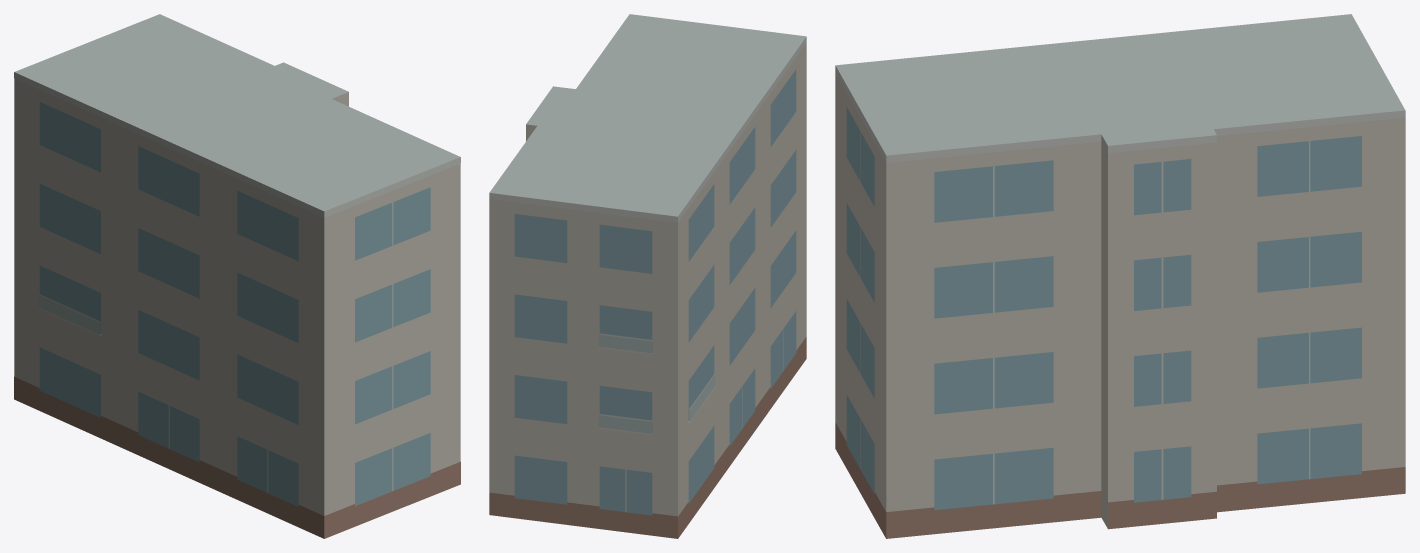
File: survey-upis-32812188.glb
3 renders of one model, left to right at view 1: azimuth 30°, elevation 25°; view 2: azimuth 150°, elevation 25°; view 3: azimuth 270°, elevation 25°, orthographic. The views are drawn at different scales.
Parts seen in each view (by area): view 1: survey-upis-32812188.tmp; view 2: survey-upis-32812188.tmp; view 3: survey-upis-32812188.tmp.
Part boxes in pixels (x1,y1,x2,y2): survey-upis-32812188.tmp: [14, 14, 460, 538]; survey-upis-32812188.tmp: [489, 14, 806, 538]; survey-upis-32812188.tmp: [835, 14, 1405, 538].
Size of the model in its own units: 10.15 by 12.8 by 17.27.
